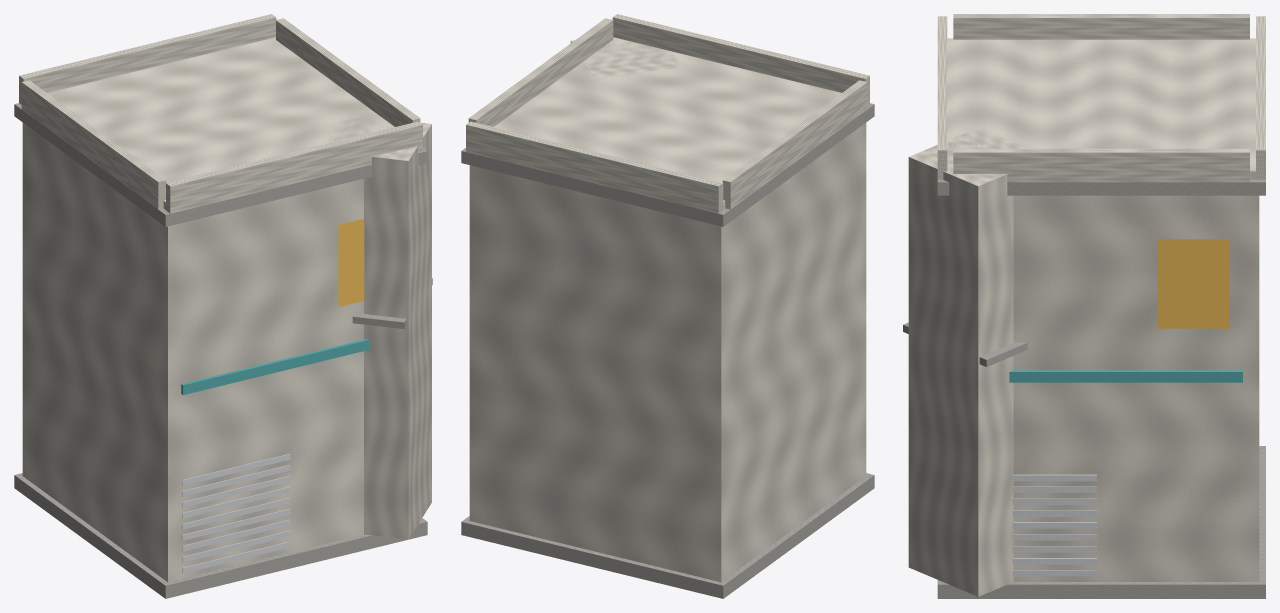
Rendered from corner-block.glb.
3 views of the same model, side by side, from view 1: azimuth 30°, elevation 25°; view 2: azimuth 150°, elevation 25°; view 3: azimuth 270°, elevation 25° (orthographic). The views are drawn at different scales.
Parts seen in each view (by area): view 1: corner-building-block-plaster, corner-building-block-stone, corner-building-block-steel, corner-building-block-teal, corner-building-block-saffron; view 2: corner-building-block-plaster, corner-building-block-stone; view 3: corner-building-block-plaster, corner-building-block-stone, corner-building-block-saffron, corner-building-block-steel, corner-building-block-teal.
Part boxes in pixels (box(x1,y1,x2,y2)): corner-building-block-plaster: box(19, 14, 431, 582); corner-building-block-stone: box(14, 103, 432, 598); corner-building-block-steel: box(182, 454, 290, 573); corner-building-block-teal: box(181, 339, 369, 395); corner-building-block-saffron: box(338, 218, 364, 306); corner-building-block-plaster: box(466, 14, 869, 582); corner-building-block-stone: box(461, 103, 874, 598); corner-building-block-plaster: box(908, 14, 1265, 596); corner-building-block-stone: box(903, 179, 1265, 598); corner-building-block-saffron: box(1157, 239, 1229, 328); corner-building-block-steel: box(1012, 474, 1096, 576); corner-building-block-teal: box(1009, 370, 1242, 382).
Size of the model in its own units: 5.53 by 7.5 by 5.53.
6 materials, 2 textured.
